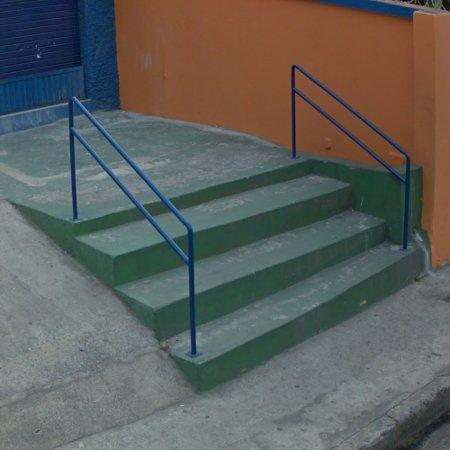stairs: (0, 113, 424, 391)
